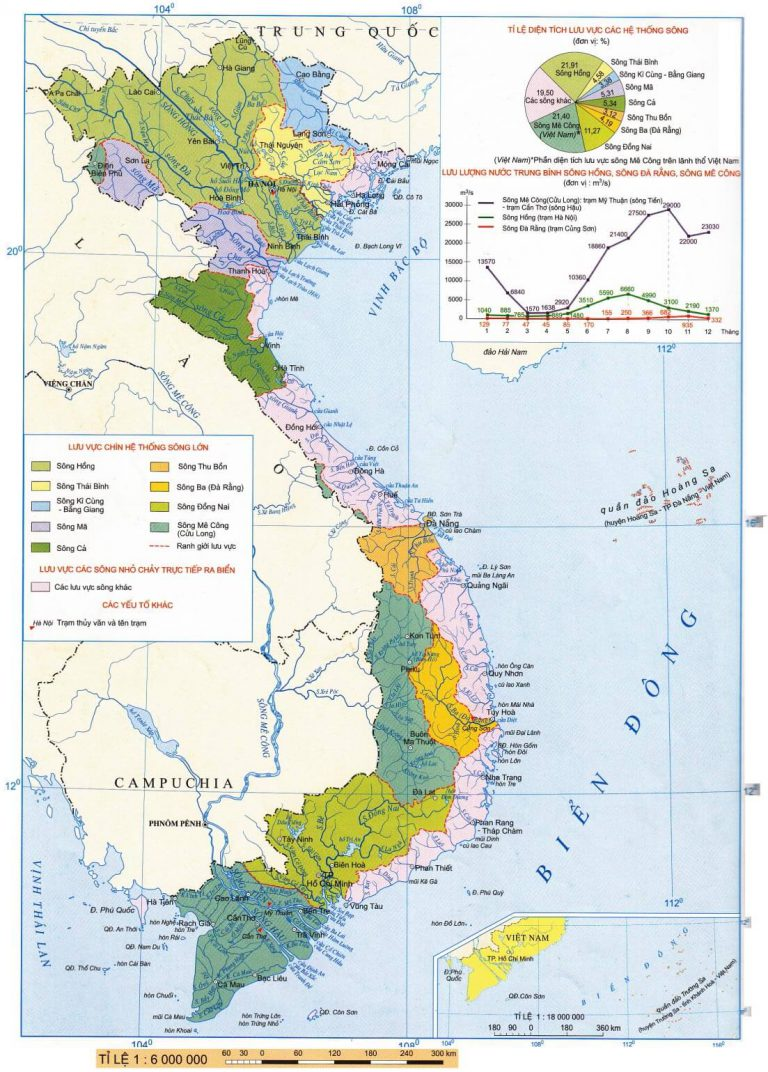Island: (598, 439, 732, 544), (626, 939, 745, 1039)
